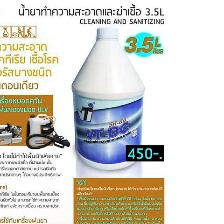cleaning_solution: (69, 25, 148, 172)
